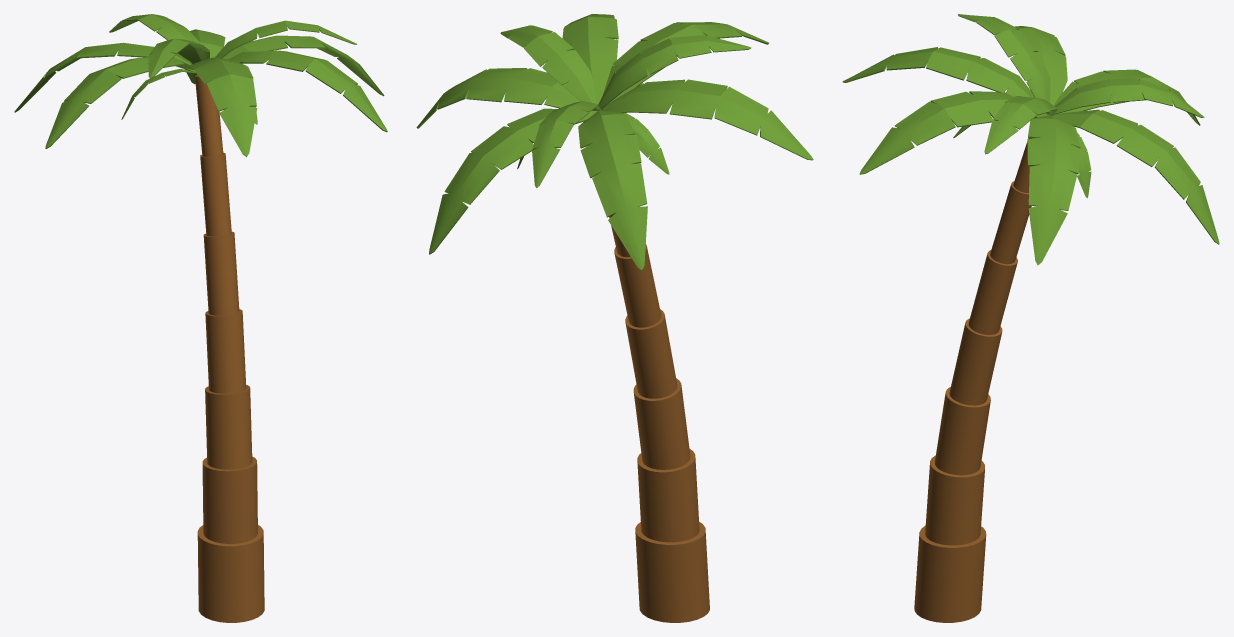
The model's file is Palm4.fbx.
3 views of the same model, side by side, from view 1: azimuth 30°, elevation 25°; view 2: azimuth 150°, elevation 25°; view 3: azimuth 270°, elevation 25° (orthographic). The views are drawn at different scales.
Visible parts, largest first — view 1: Palm; view 2: Palm; view 3: Palm.
Part boxes in pixels (x1,y1,x2,y2): Palm: (14,14,387,622); Palm: (416,14,813,622); Palm: (842,14,1219,622).
Bounding box in the file's own units: 137 × 205 × 124.
